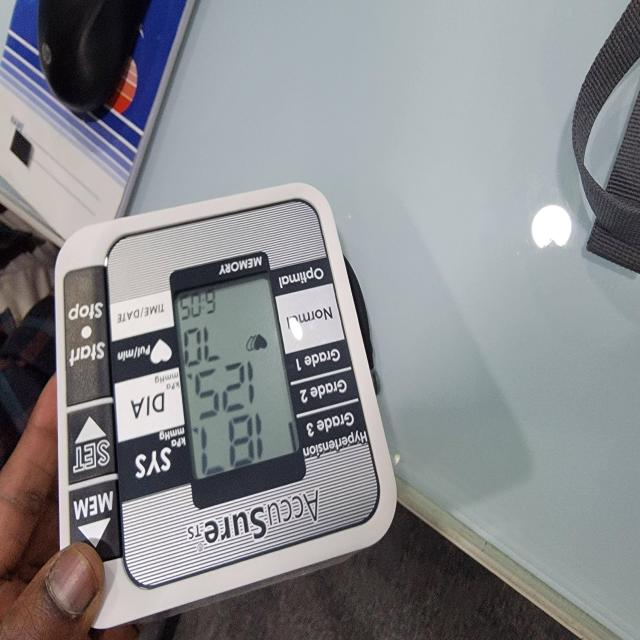bp: (52, 184, 398, 629)
